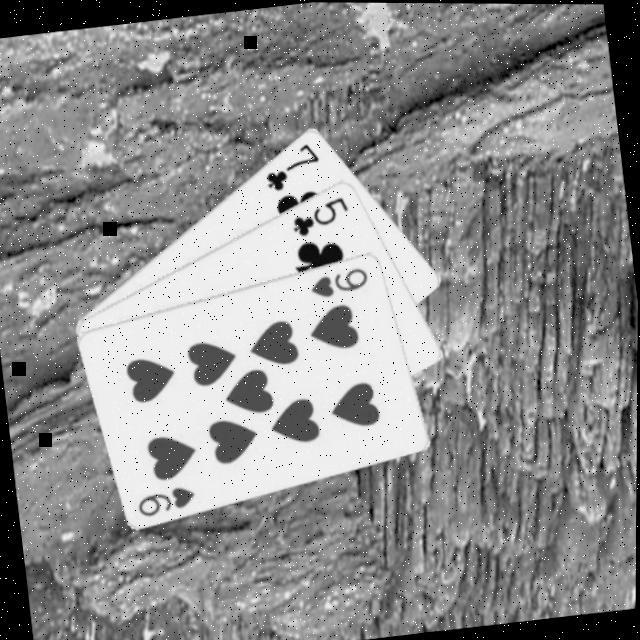5C: (287, 191, 356, 240)
7C: (259, 138, 327, 195)
9H: (306, 261, 373, 301), (134, 480, 201, 520)
